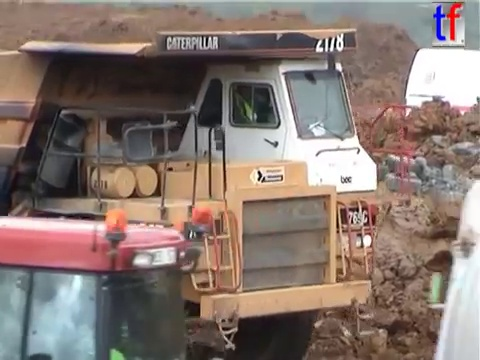truck: (1, 23, 427, 360), (1, 201, 217, 360), (419, 177, 480, 360)
